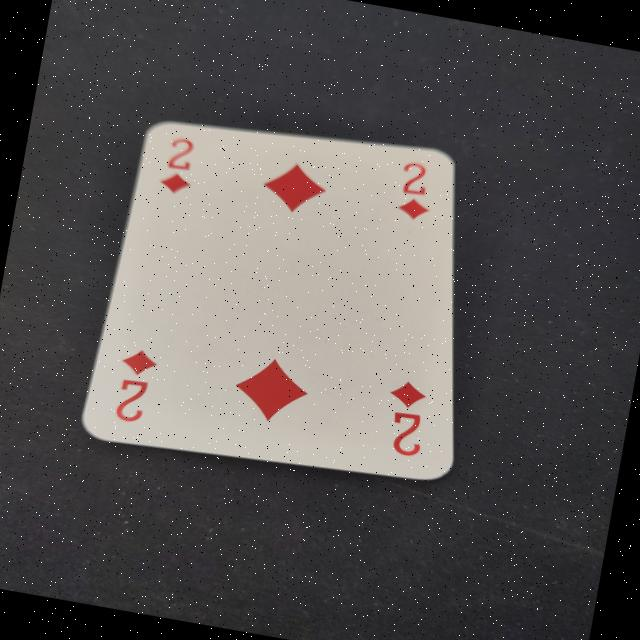2d: (371, 371, 442, 468), (102, 338, 166, 429), (388, 155, 450, 235), (150, 130, 208, 203)
